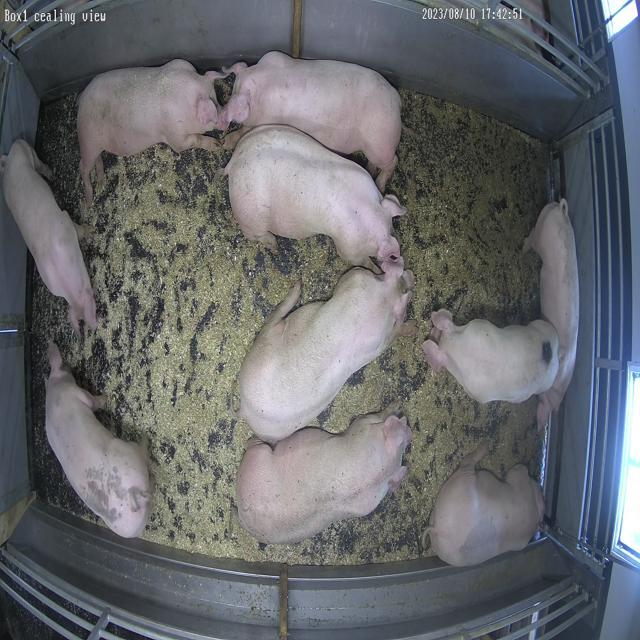Dirt: (403, 91, 547, 290)
Pig: (238, 257, 415, 442), (225, 125, 406, 266), (221, 51, 402, 190), (237, 411, 413, 544), (45, 341, 152, 539), (77, 59, 223, 204), (0, 139, 97, 332), (423, 311, 560, 404), (527, 199, 581, 430), (429, 466, 545, 568)
